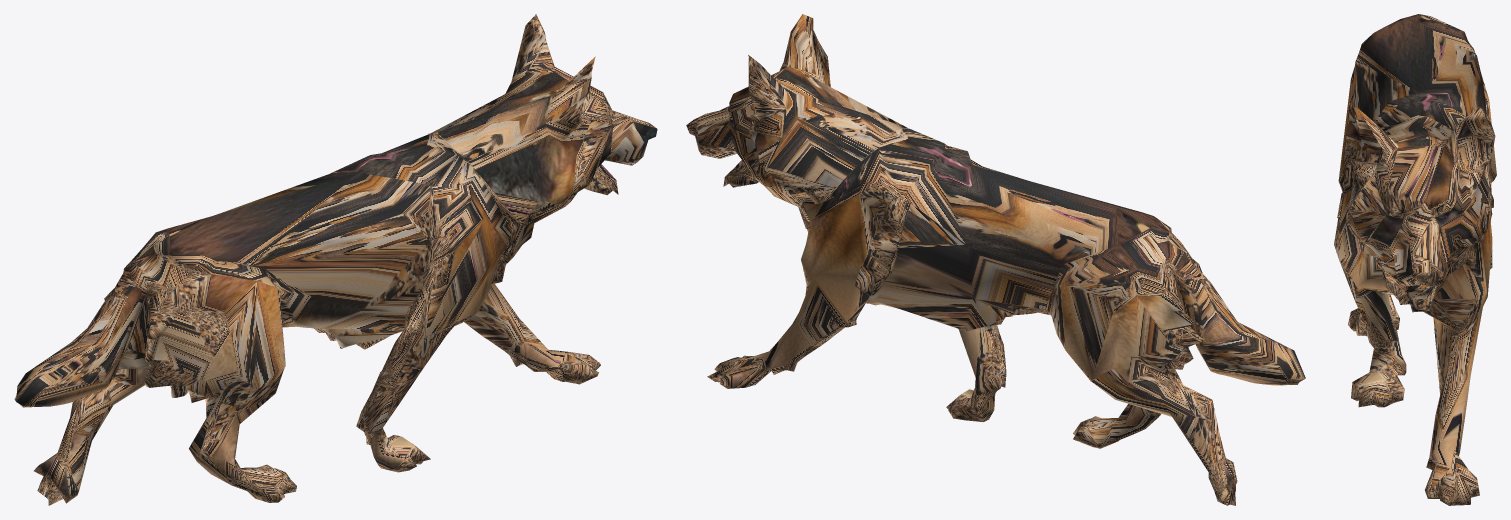
3 views of the same model, side by side, from view 1: azimuth 30°, elevation 25°; view 2: azimuth 150°, elevation 25°; view 3: azimuth 270°, elevation 25° (orthographic). The views are drawn at different scales.
Parts seen in each view (by area): view 1: Object_4; view 2: Object_4; view 3: Object_4.
Part boxes in pixels (x1,y1,x2,y2): Object_4: [14, 14, 657, 505]; Object_4: [686, 14, 1305, 505]; Object_4: [1334, 14, 1496, 505].
Size of the model in its own units: 1 by 0.5499 by 0.2074.
Materials: 1 (1 with a texture image).
